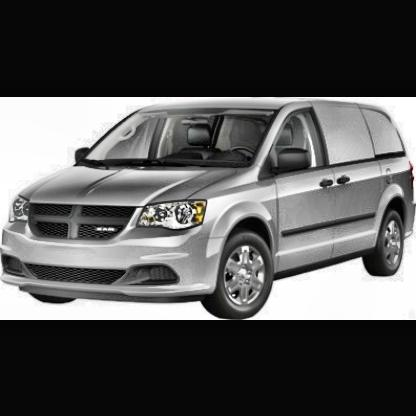Ram C-V Cargo Van Minivan 2012: (2, 102, 416, 320)
